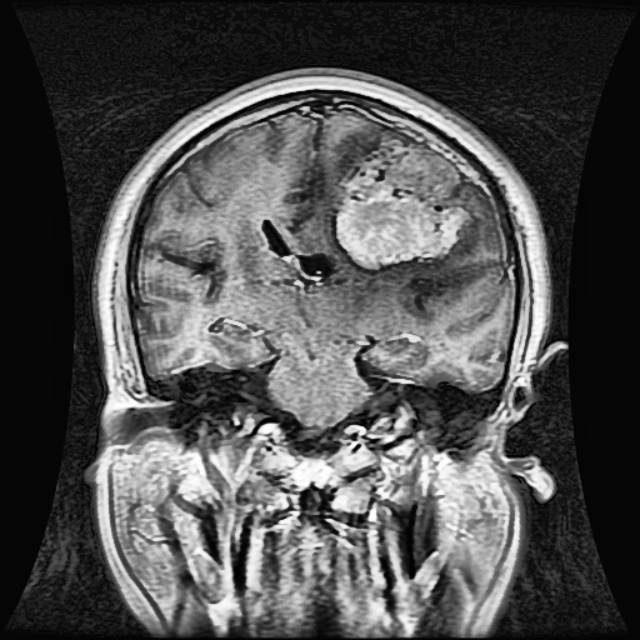Glioma: (335, 128, 470, 268)
